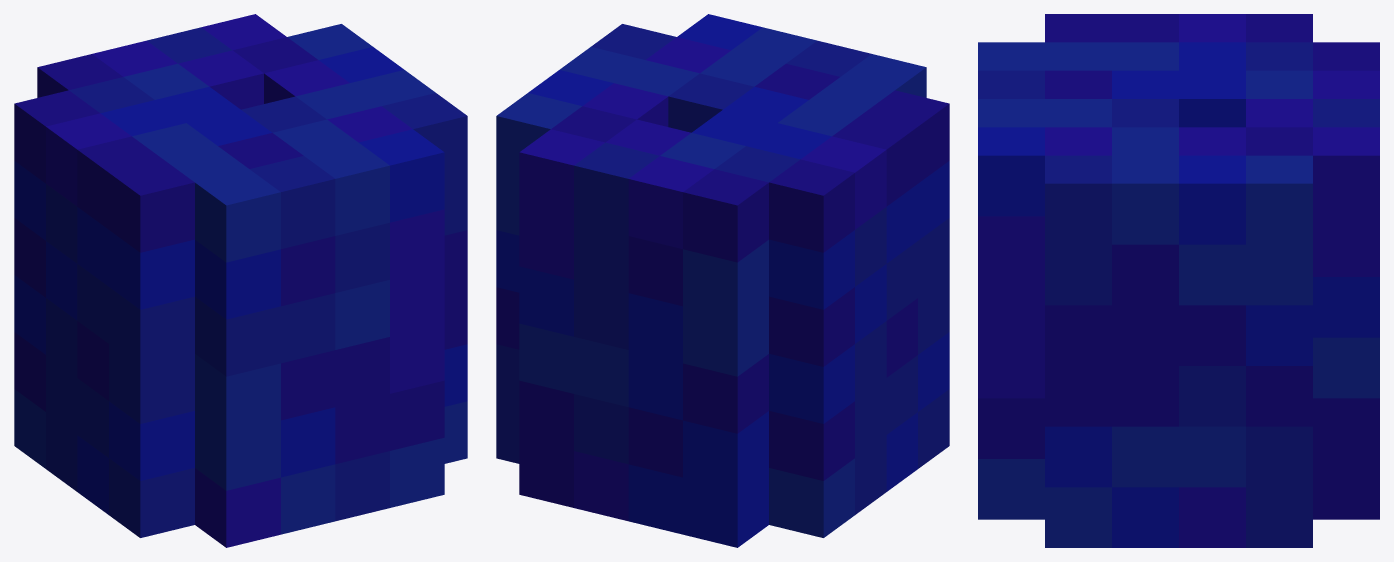
Rendered from FurroThighR.fbx.
3 renders of one model, left to right at view 1: azimuth 30°, elevation 25°; view 2: azimuth 150°, elevation 25°; view 3: azimuth 270°, elevation 25°, orthographic. The views are drawn at different scales.
Visible parts, largest first — view 1: FurroThighR; view 2: FurroThighR; view 3: FurroThighR.
Part boxes in pixels (left/top/right/bottom): FurroThighR: left=14, top=14, right=467, bottom=547; FurroThighR: left=496, top=14, right=949, bottom=547; FurroThighR: left=978, top=14, right=1379, bottom=547.
Size of the model in its own units: 60 by 60 by 60.
